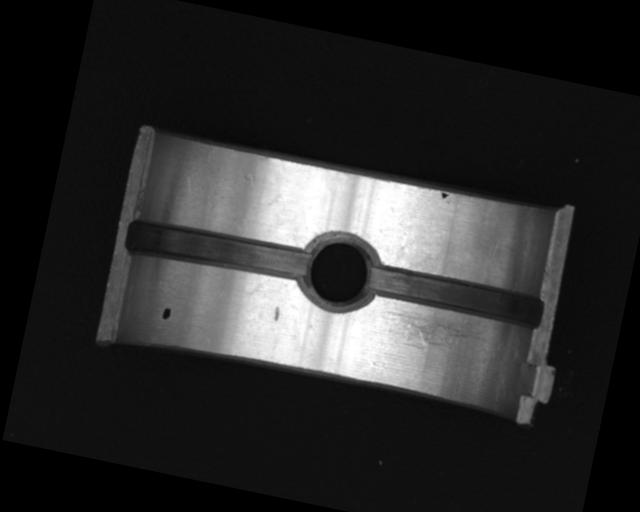blot: (161, 305, 172, 321), (439, 190, 450, 201)
bruise: (271, 305, 282, 323)
gap: (122, 212, 314, 290), (365, 260, 546, 331)
hole: (294, 225, 383, 320)
scratch: (374, 301, 491, 358)
